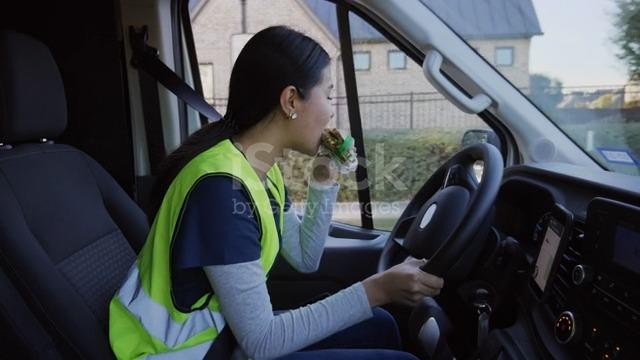Eating: (207, 15, 391, 209)
